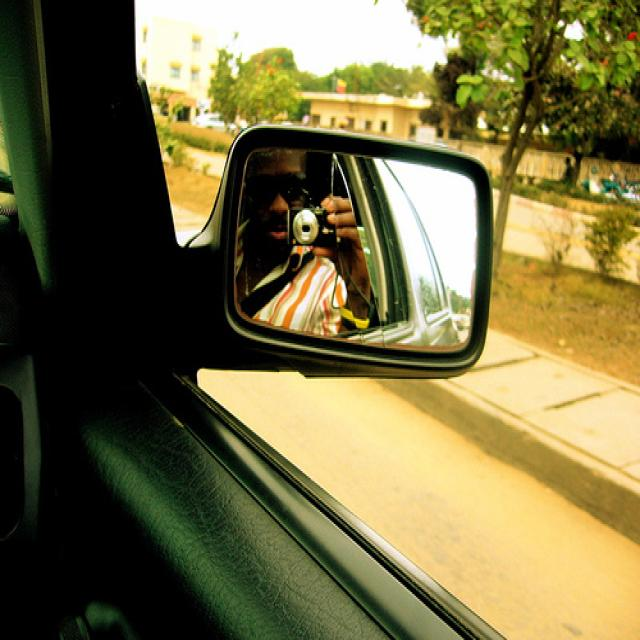person: (237, 138, 376, 346)
